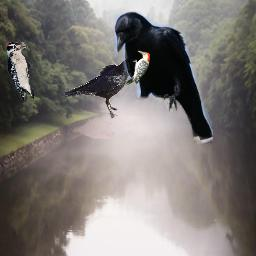Crow: (113, 11, 213, 146), (64, 58, 143, 119)
Woodpecker: (6, 42, 34, 100), (124, 49, 150, 87)
